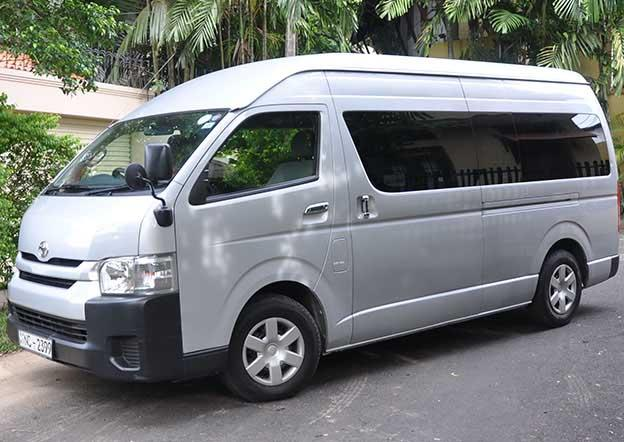van: (6, 51, 620, 403)
